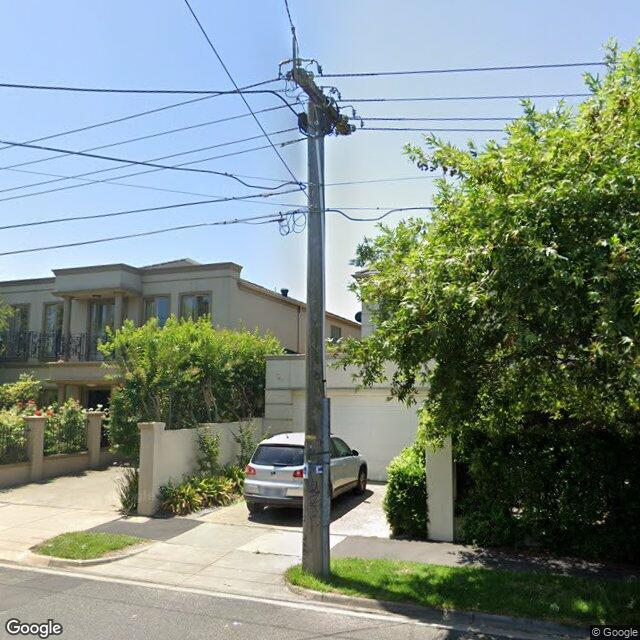crossarm: (278, 58, 364, 136)
timber-pole: (302, 102, 331, 578)
